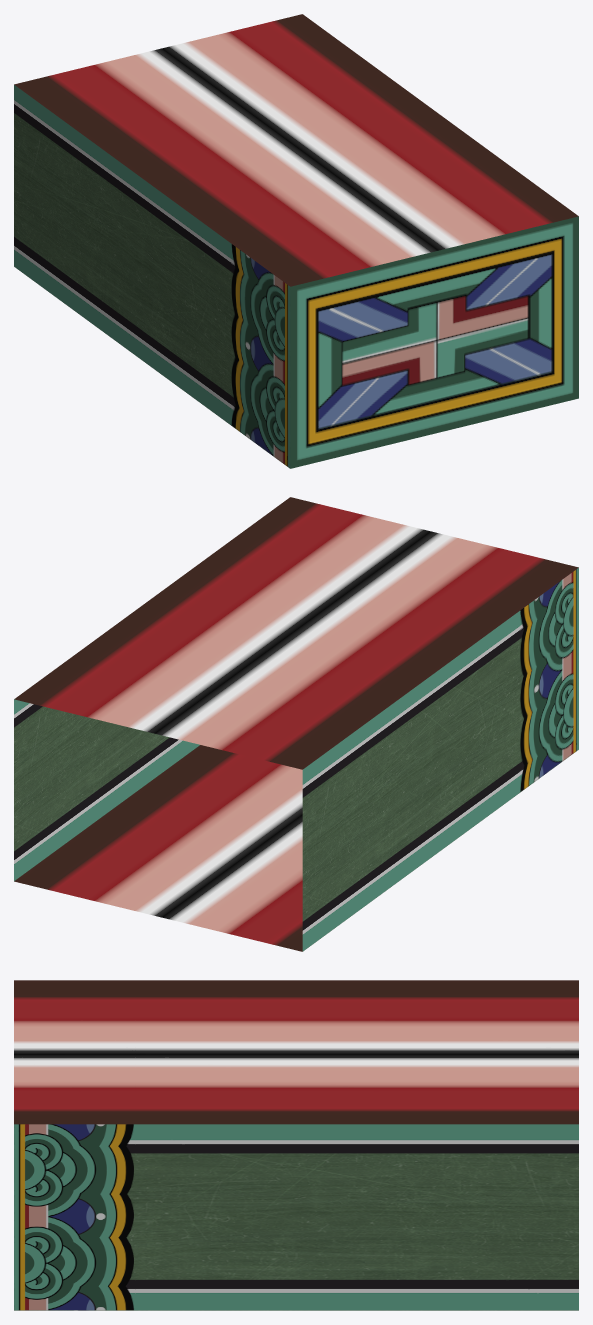
File: SM_Beam02G.fbx
3 views of the same model, one above another, from view 1: azimuth 30°, elevation 25°; view 2: azimuth 150°, elevation 25°; view 3: azimuth 270°, elevation 25° (orthographic). The views are drawn at different scales.
Parts seen in each view (by area): view 1: SM_Beam02G; view 2: SM_Beam02G; view 3: SM_Beam02G.
Part boxes in pixels (left/top/right/bottom): SM_Beam02G: left=14, top=14, right=578, bottom=468; SM_Beam02G: left=14, top=497, right=578, bottom=951; SM_Beam02G: left=14, top=980, right=578, bottom=1310.
Bounding box in the file's own units: 47.3 × 78.45 × 28.52.
1 material, 1 textured.
